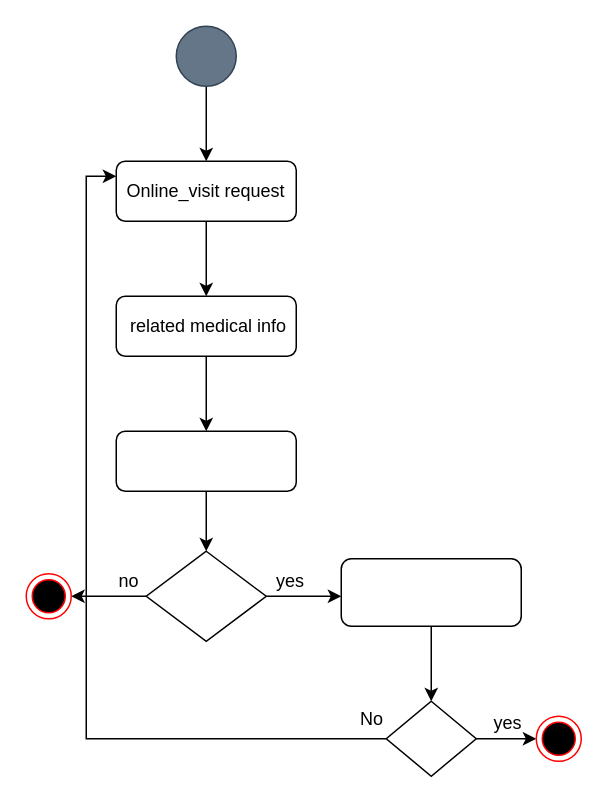
Image size: 608x803. Some labels were removed from this diagram. The box of each missing label's shape, as (x1, y1, x2, y2) in pixels:
payment: (115, 430, 296, 491)
result of online_visit: (340, 557, 521, 626)
